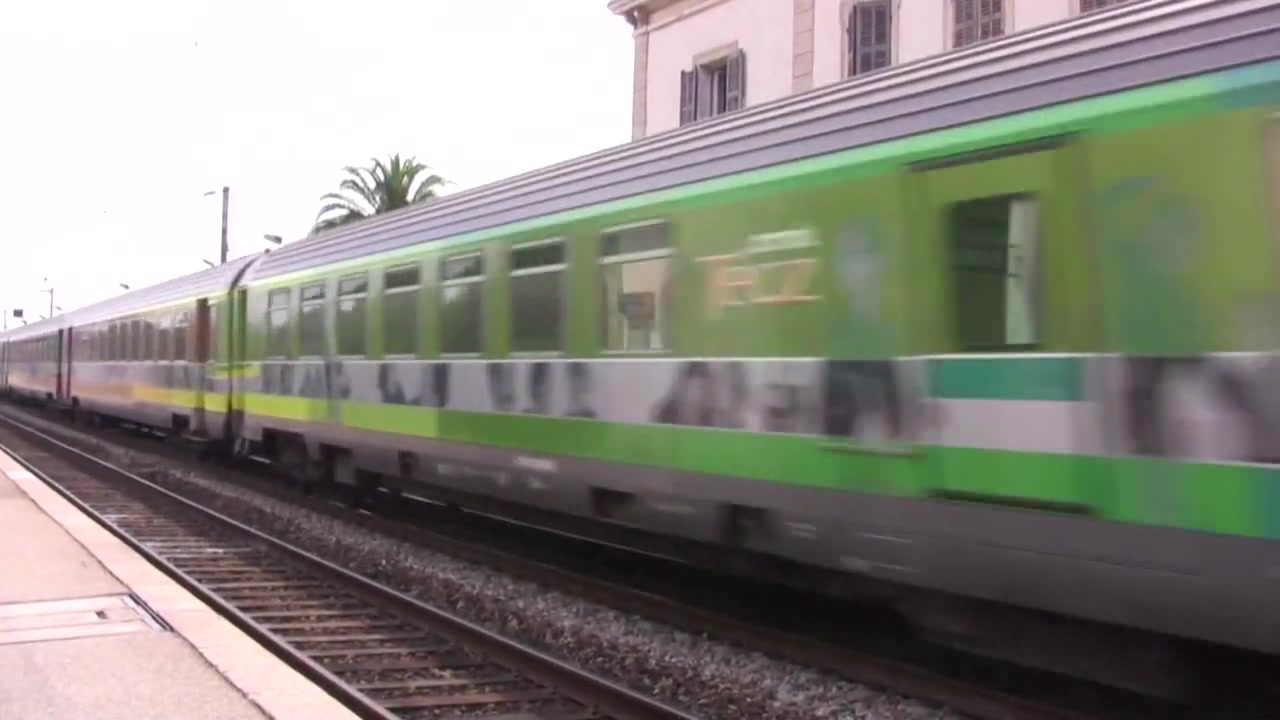train: (1, 3, 1280, 672)
